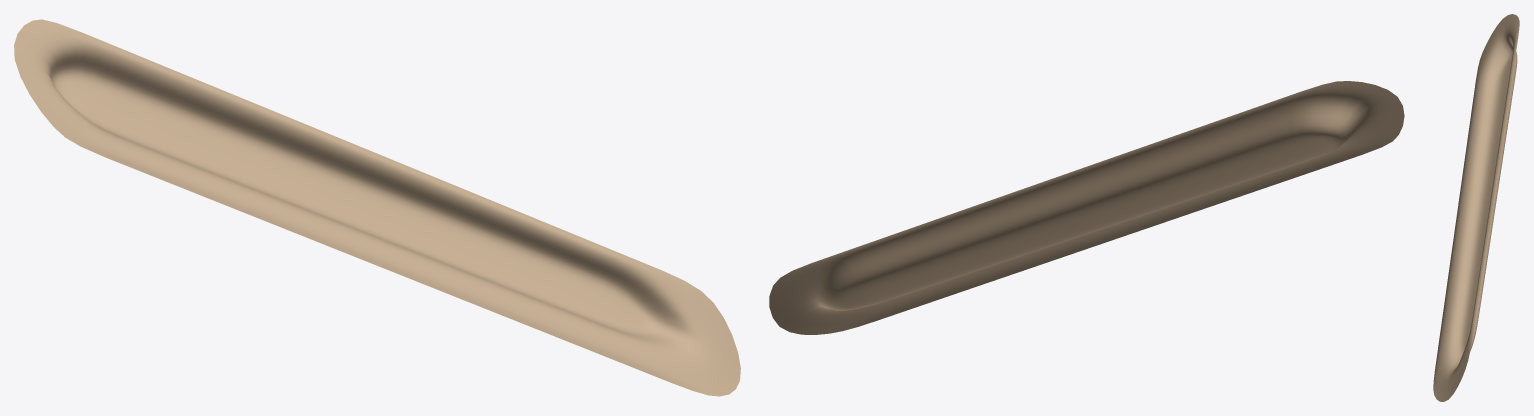
Rendered from Noch_Collar_kaaj.glb.
3 renders of one model, left to right at view 1: azimuth 30°, elevation 25°; view 2: azimuth 150°, elevation 25°; view 3: azimuth 270°, elevation 25°, orthographic. The views are drawn at different scales.
Visible parts, largest first — view 1: noch_collar kaaj; view 2: noch_collar kaaj; view 3: noch_collar kaaj.
Boxes of the visible parts, x1=… form: noch_collar kaaj: x1=14, y1=19, x2=740, y2=396; noch_collar kaaj: x1=769, y1=81, x2=1404, y2=334; noch_collar kaaj: x1=1433, y1=14, x2=1519, y2=401.
Bounding box in the file's own units: 0.00193 × 0.00127 × 0.000428.
